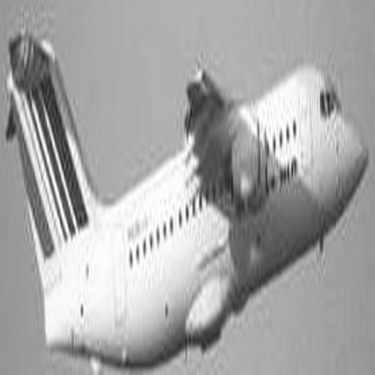airplane: (8, 18, 362, 371)
